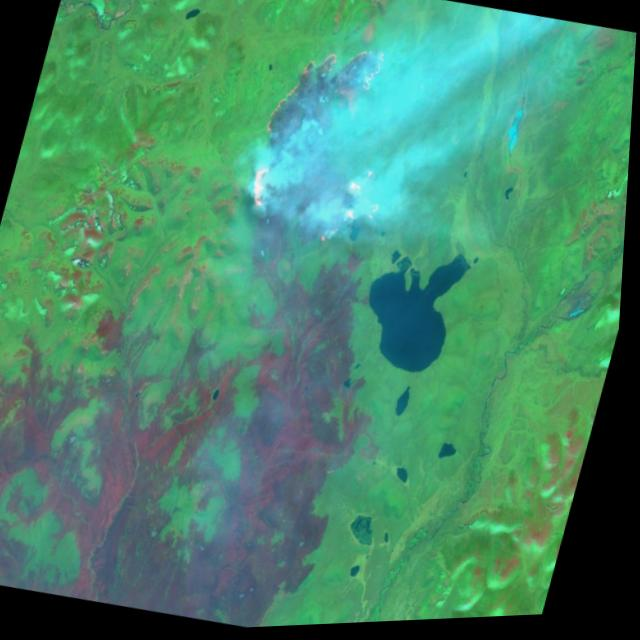fire: (237, 29, 424, 259)
